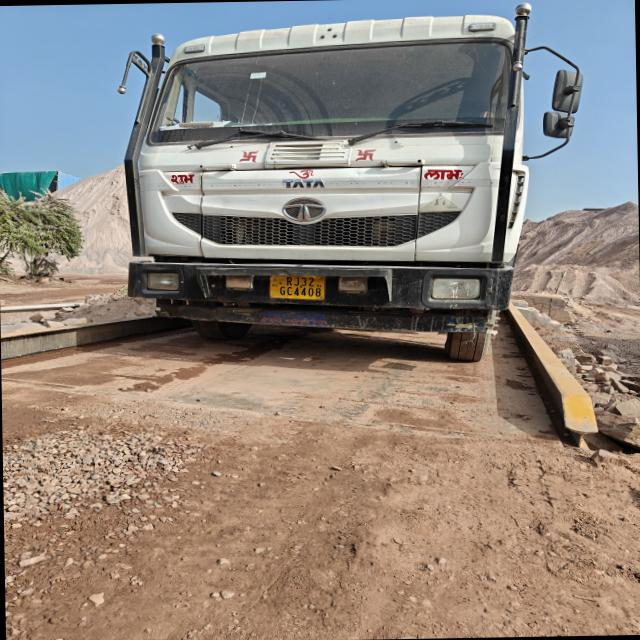license_plate: (270, 276, 325, 300)
